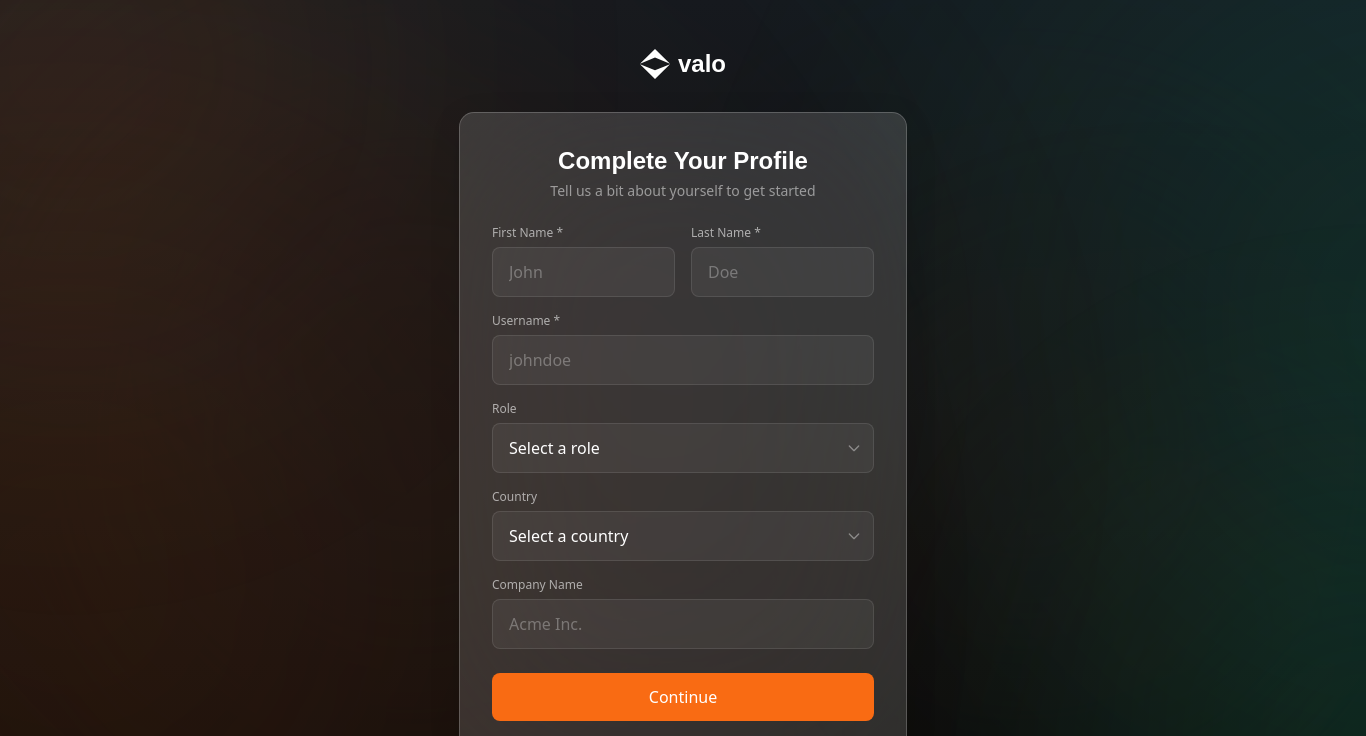
Test: OnboardingPage › shows generic error on network failure
The image size is (1366, 736).
In the field with placeholder "John": {"x": 584, "y": 272} [492,247,675,297], type "Jane"
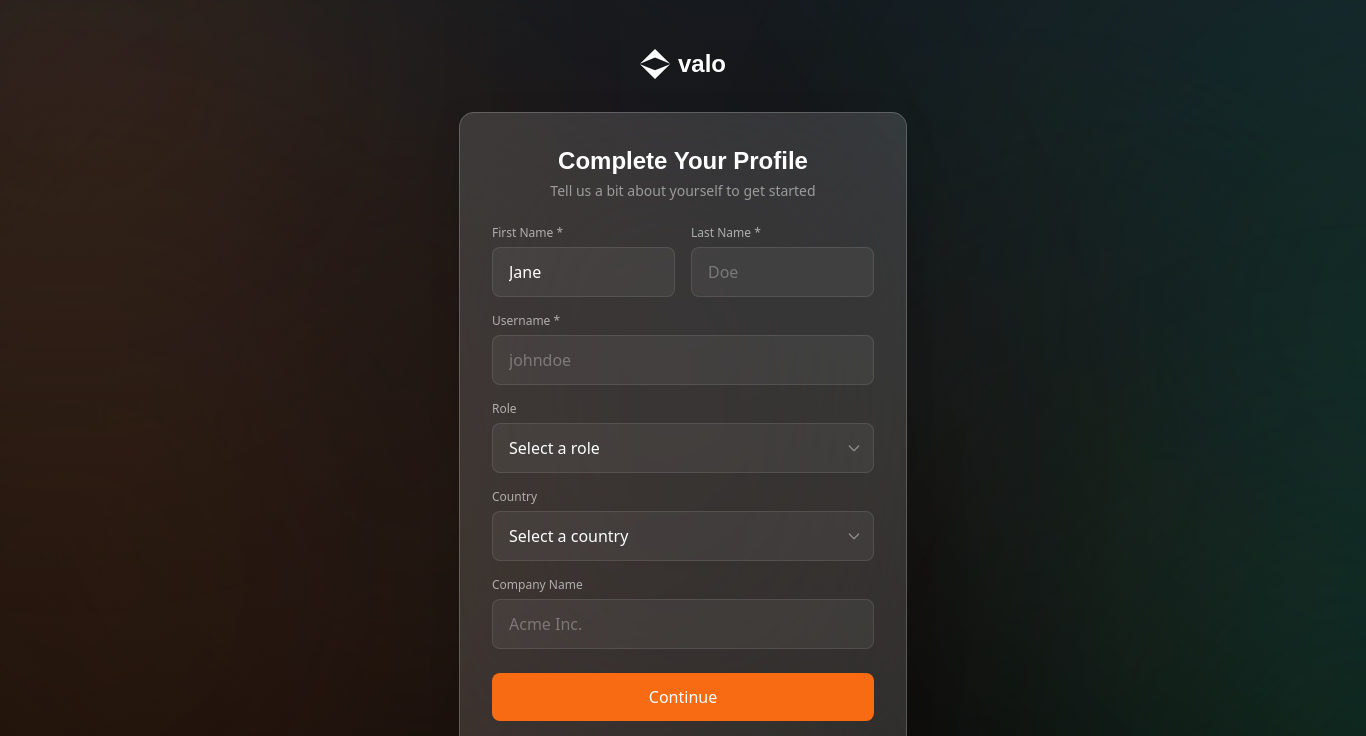
In the field with placeholder "Doe": {"x": 782, "y": 272} [691,247,874,297], type "Smith"
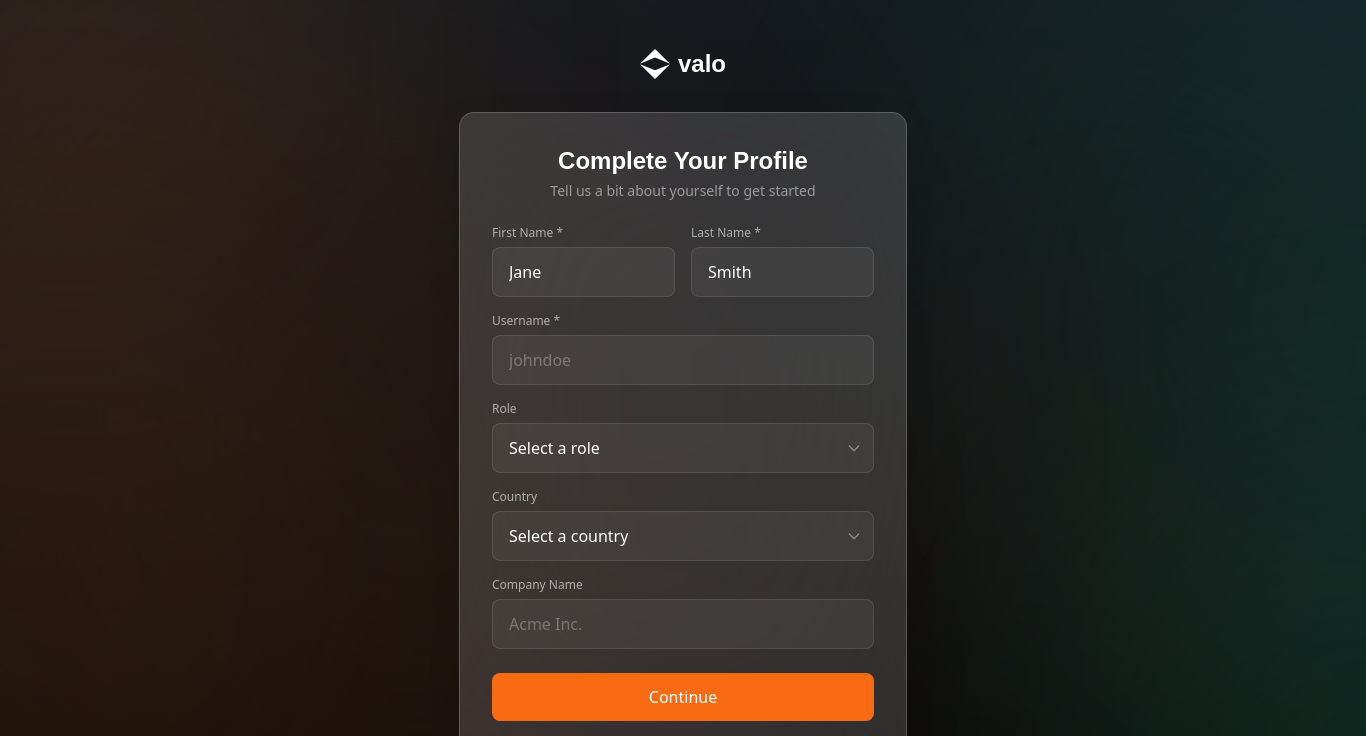
In the field with placeholder "johndoe": {"x": 683, "y": 360} [492,335,874,385], type "janesmith"
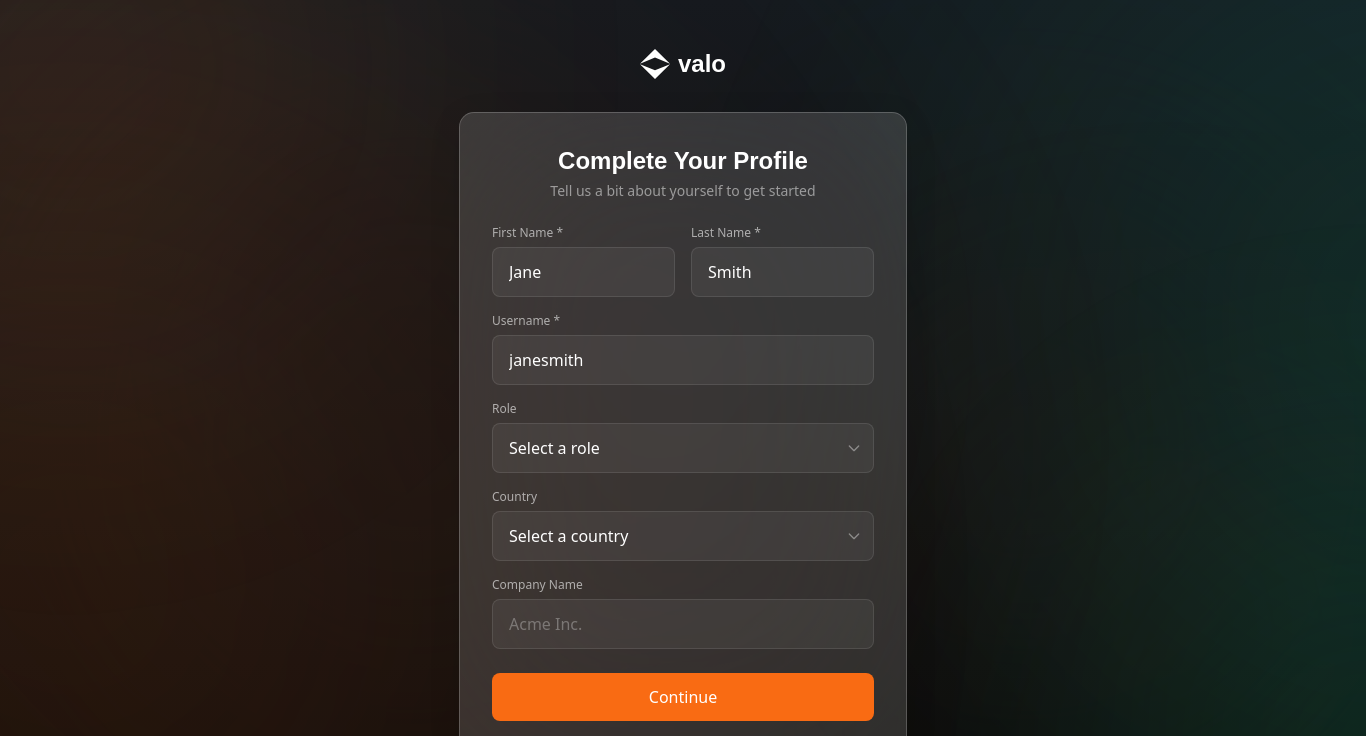
Submit the text "Continue", box [492,225,874,721]
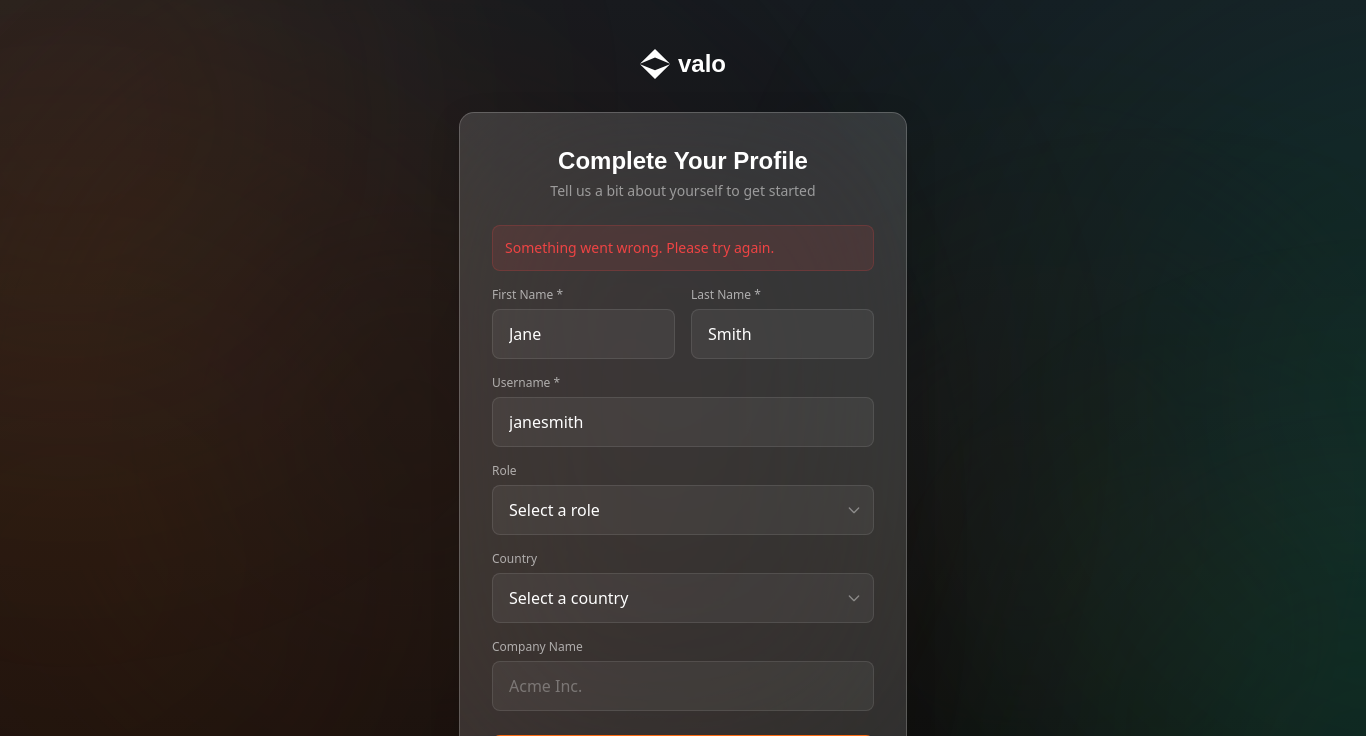
Expected: the text "Something went wrong. Please try again." is shown, [492,225,874,271]
